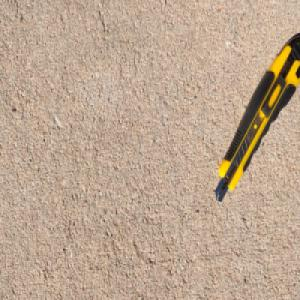Cutter: (213, 32, 300, 204)
